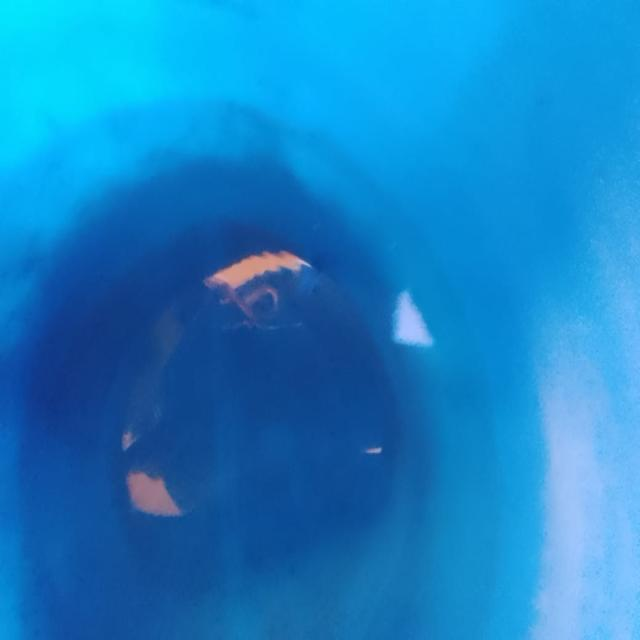litter: (388, 281, 454, 368)
